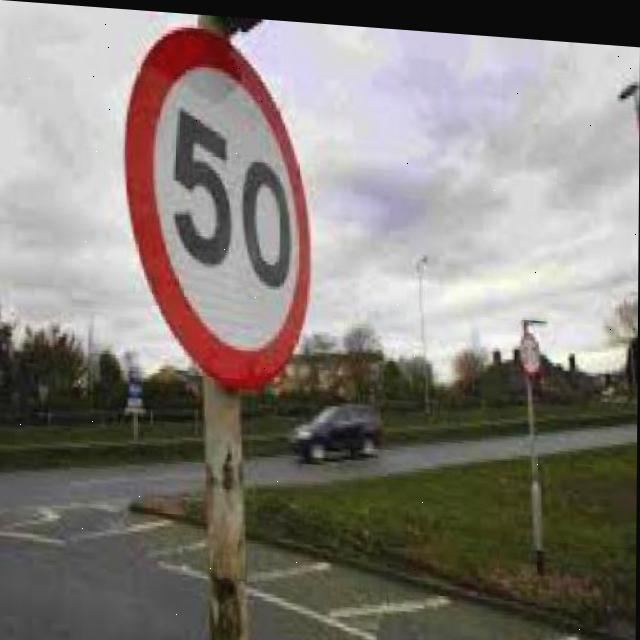Speed limit 50: (119, 17, 318, 393)
